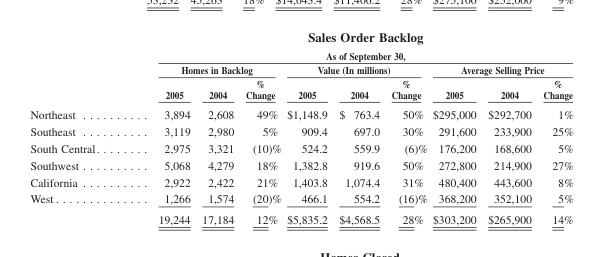table: (29, 28, 572, 225)
table column: (29, 28, 128, 225), (128, 28, 195, 225), (481, 28, 536, 225), (332, 28, 384, 225), (429, 28, 481, 225), (283, 28, 332, 225), (384, 28, 429, 225), (195, 28, 239, 225), (239, 28, 283, 225), (536, 28, 572, 225)
table column header: (29, 28, 572, 103)
table row: (29, 28, 572, 62), (29, 76, 572, 103), (29, 103, 572, 122), (29, 190, 572, 208), (29, 122, 572, 139), (29, 139, 572, 156), (29, 156, 572, 173), (29, 173, 572, 190), (29, 208, 572, 225), (29, 62, 572, 76)
table spanning cell: (128, 28, 572, 62), (128, 62, 283, 76), (283, 62, 429, 76), (429, 62, 572, 76)
